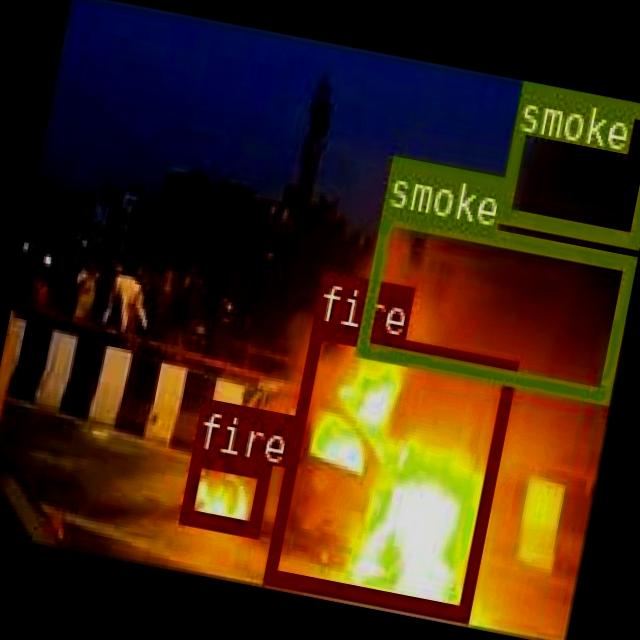fire: (263, 320, 516, 620), (178, 448, 269, 534)
smoke: (353, 206, 635, 402), (496, 80, 640, 247)
